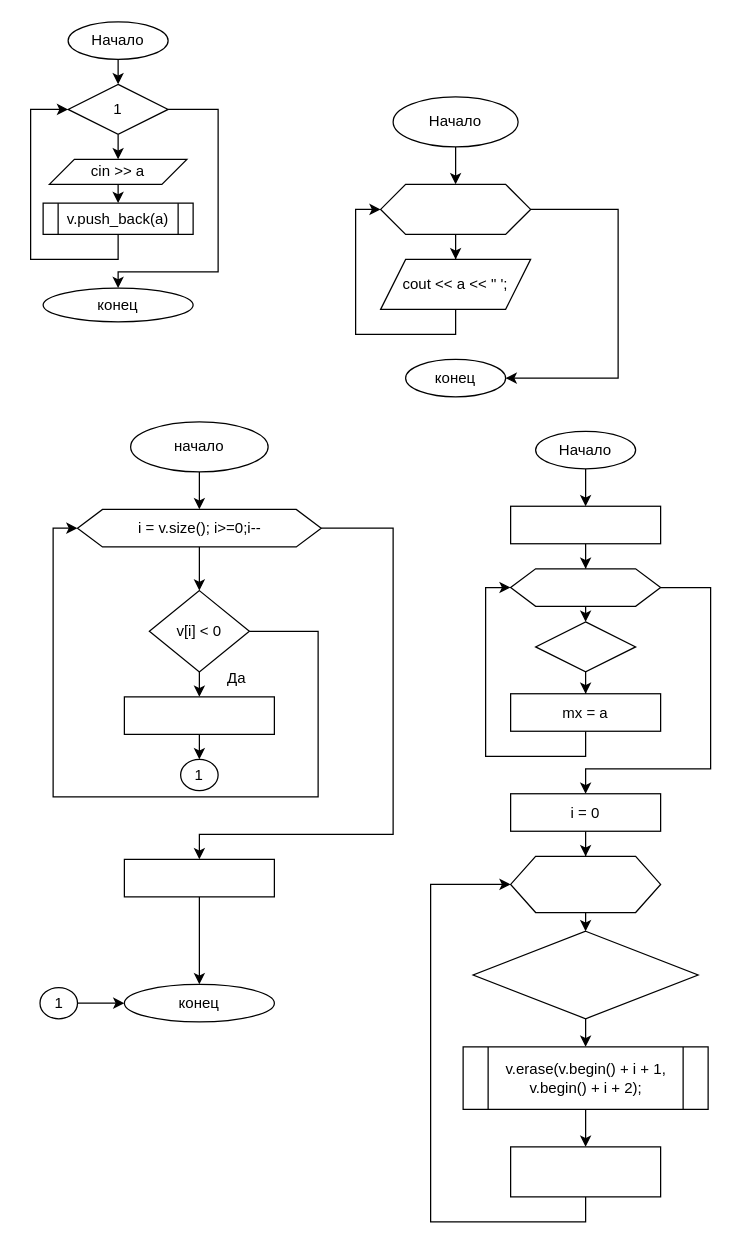
Some shapes in this 743 by 1254 pixel diagram are drawn without their labels. The centre of each missing label's shape, as x and y in pixels:
"++i" belongs at pixel 585 1171.
"a > mx" belongs at pixel 585 646.
"a: v" belongs at pixel 455 208.
"a: v;" belongs at pixel 585 587.
"i < v.size()" belongs at pixel 585 883.
"mx = v[0]" belongs at pixel 585 524.
"return -1" belongs at pixel 198 877.
"return i" belongs at pixel 198 715.
"v[i] == mx && i != v.size() - 1" belongs at pixel 585 974.
